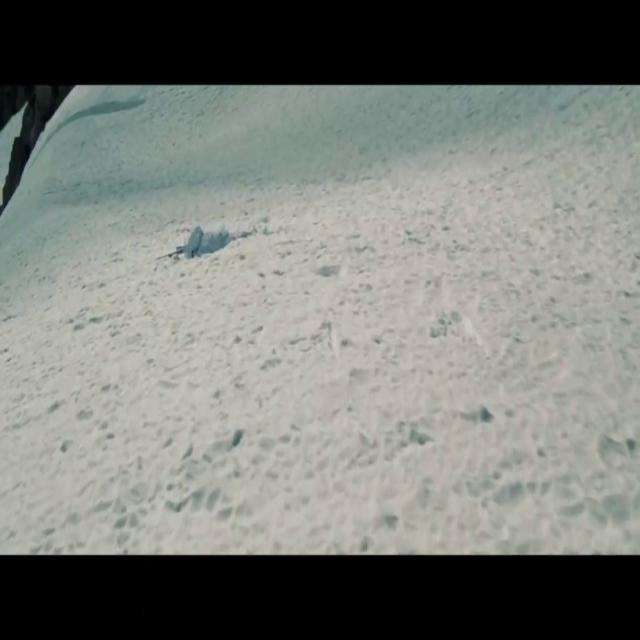Camouflage: (150, 228, 226, 258)
